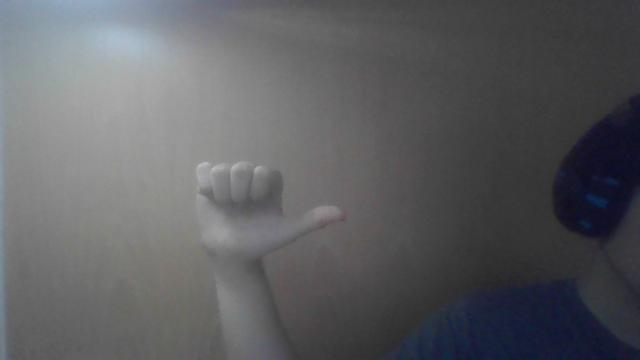left: (189, 153, 357, 271)
